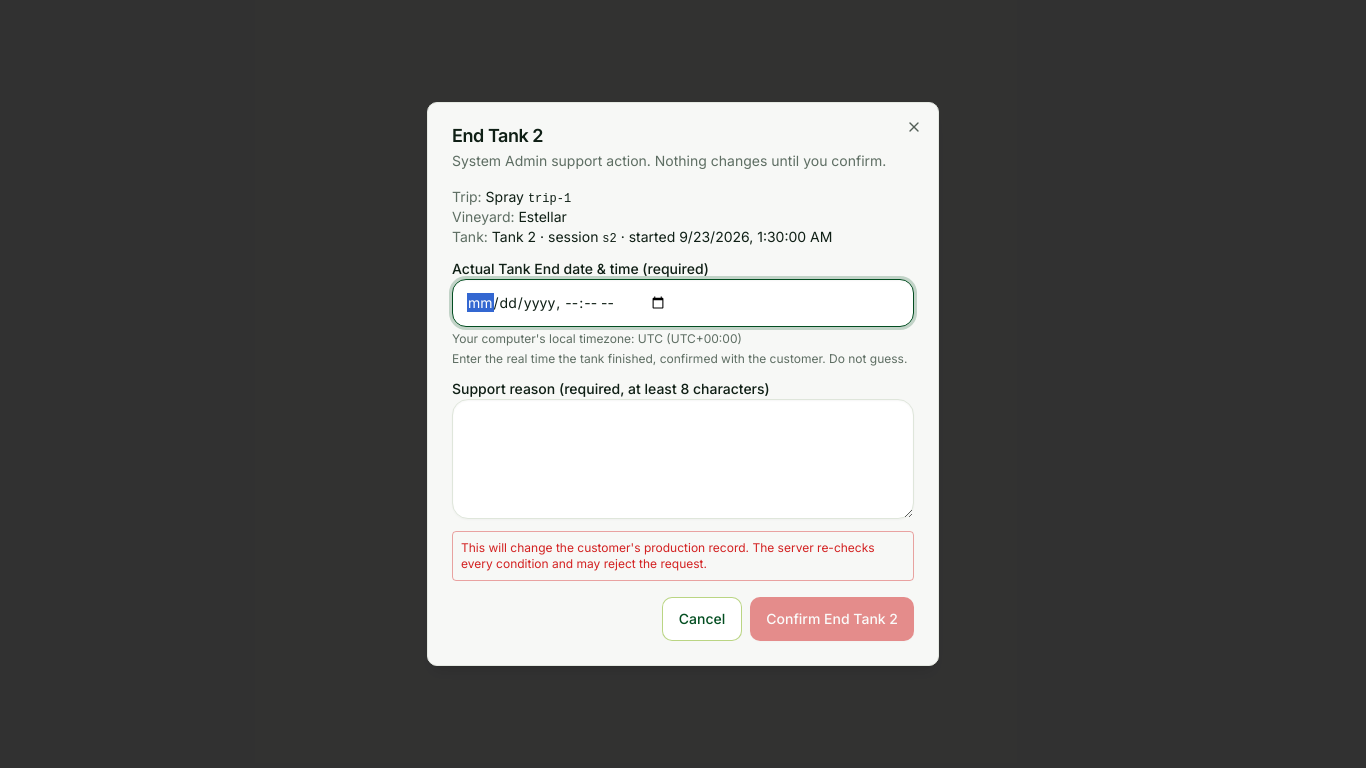
End Tank / End Trip dialog: mandatory actual end time › valid End Tank: sends chosen UTC time and propagates server error without success
Type "2026-09-23T23:30" into the field labelled "Actual Tank End date & time (required)" at [683, 303], box [452,279,914,327]
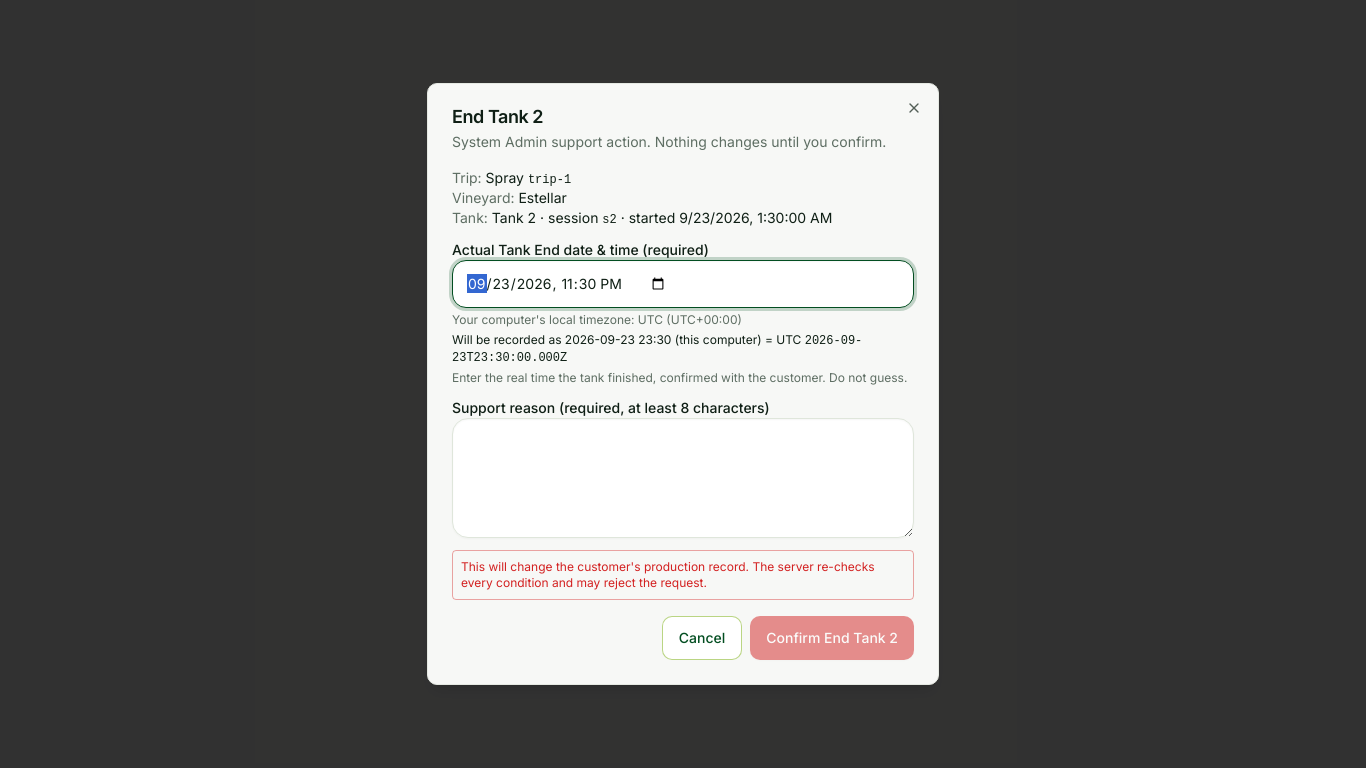
Type "Operator confirmed" into the text box labelled "Support reason (required, at least 8 characters)" at [683, 478], box [452,418,914,538]
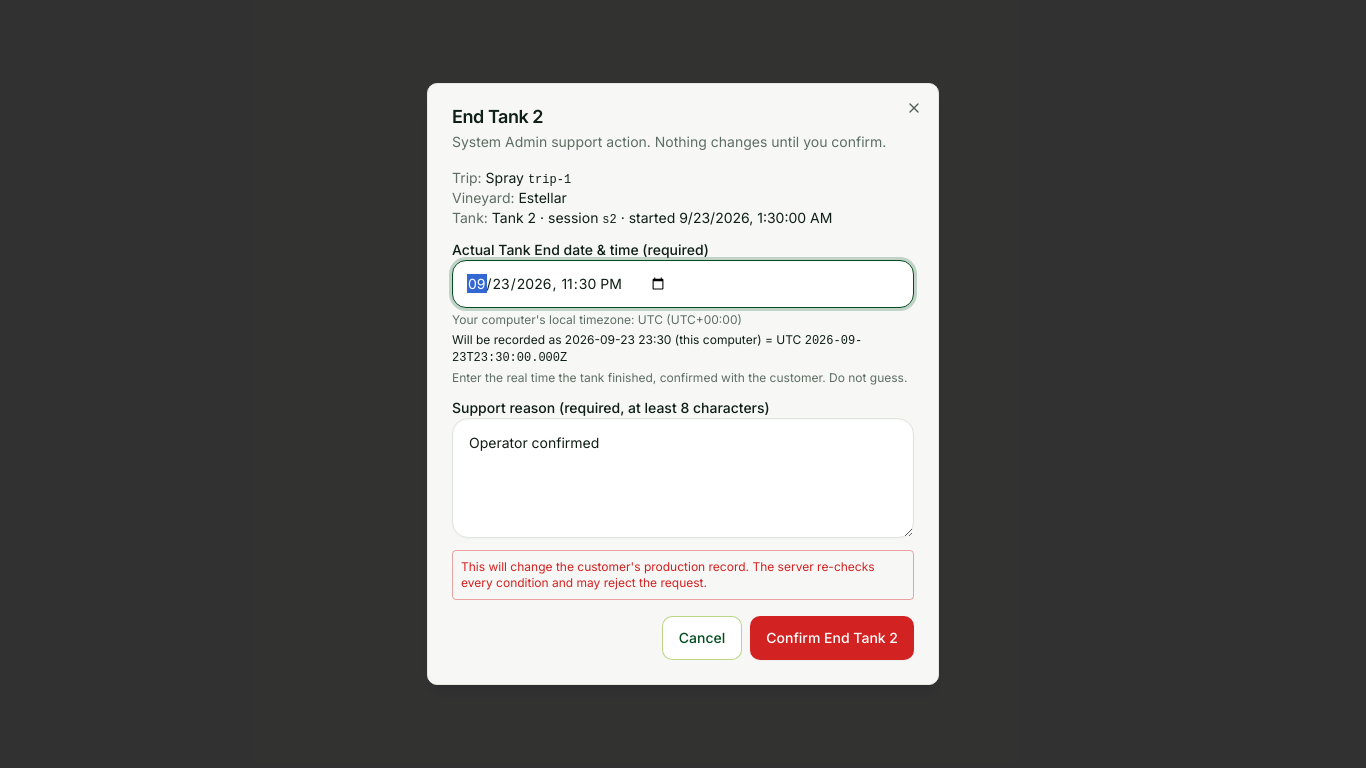
Click the button "Confirm End Tank 2" at [832, 638], box [750,616,914,660]
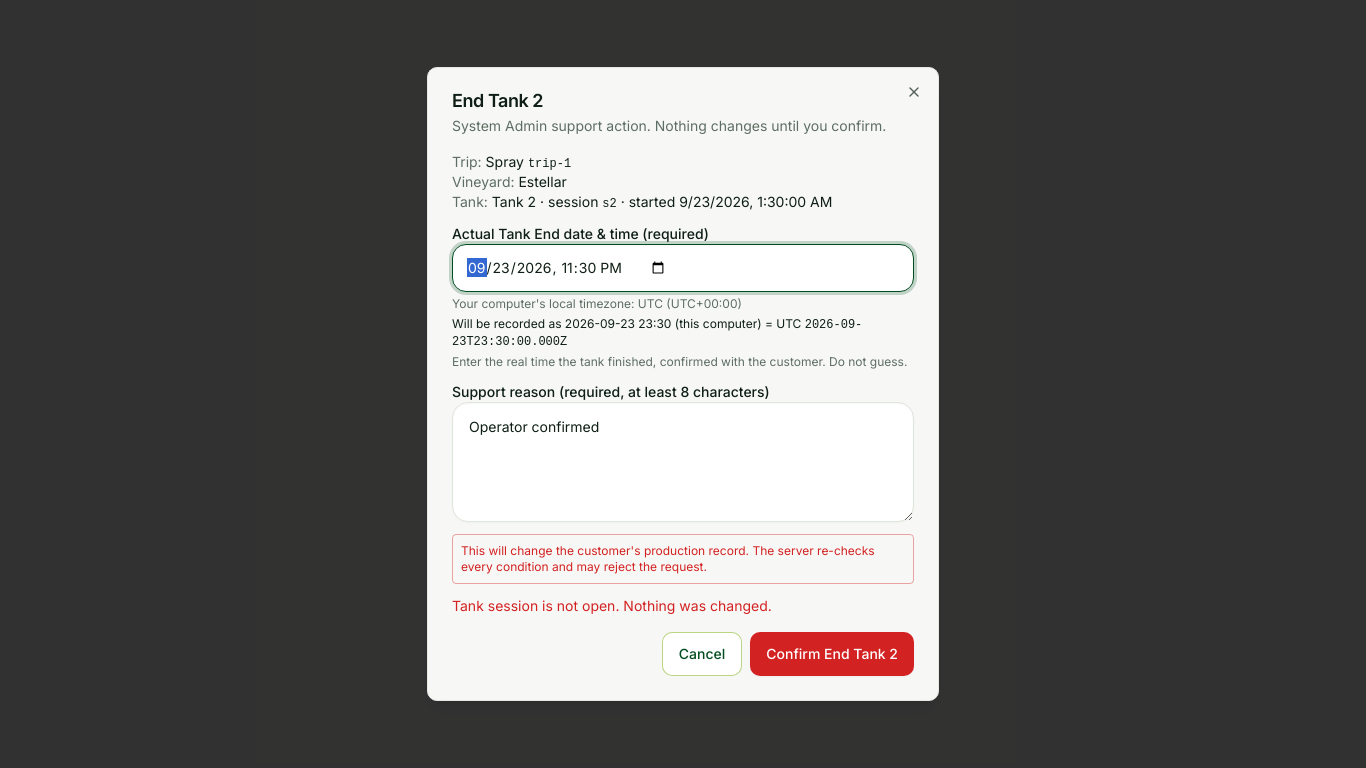
expect the message shows "Tank session is not open": met, box [452,597,772,614]
